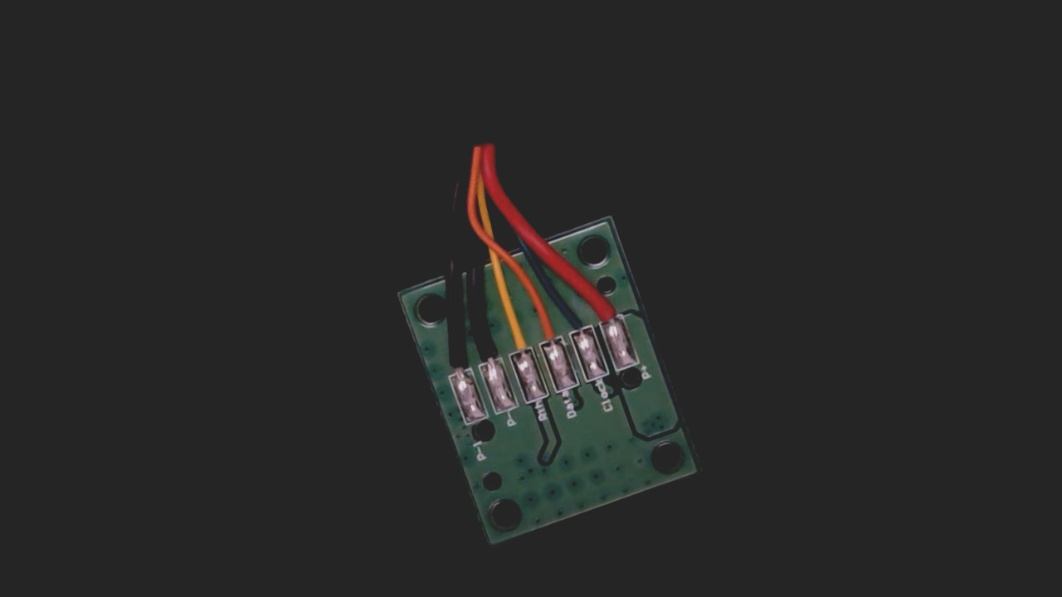Black: (465, 317, 507, 380)
Black1: (432, 327, 476, 389)
Green: (557, 290, 596, 345)
Orange: (523, 296, 568, 361)
Red: (584, 281, 625, 335)
Yellow: (494, 308, 538, 369)
